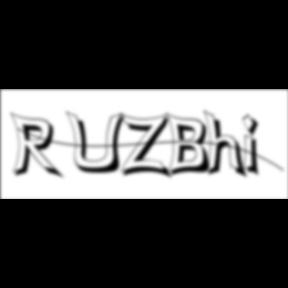B: (166, 111, 216, 179)
R: (10, 112, 68, 182)
U: (66, 110, 130, 176)
Z: (120, 112, 176, 181)
h: (204, 108, 250, 182)
i: (242, 112, 266, 180)
